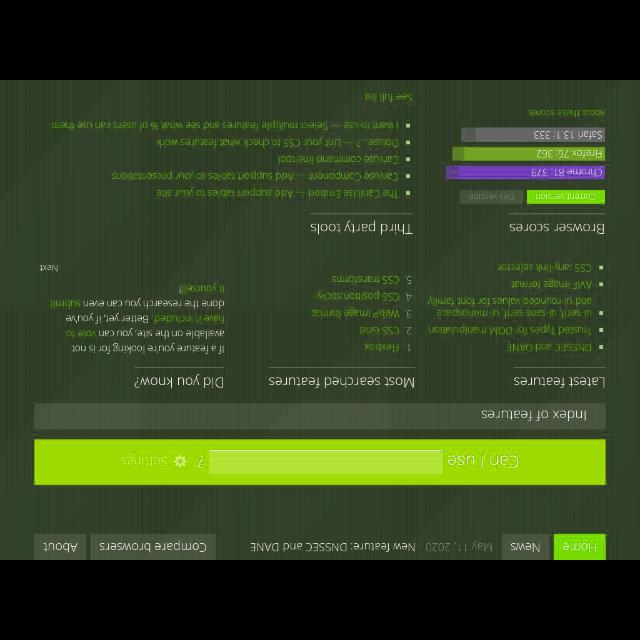icon: (174, 454, 186, 468)
input: (209, 449, 445, 473)
text: (48, 283, 224, 353), (50, 120, 400, 132), (109, 170, 401, 183), (427, 296, 593, 318), (154, 186, 398, 200), (154, 138, 400, 148), (268, 373, 414, 389), (249, 540, 415, 554), (429, 324, 591, 336), (479, 407, 591, 423), (512, 374, 606, 392), (508, 220, 606, 237), (133, 372, 223, 390), (309, 220, 413, 234), (276, 154, 399, 164), (311, 306, 413, 318), (448, 452, 520, 468), (316, 290, 412, 302), (416, 540, 496, 554), (498, 262, 590, 274), (330, 274, 412, 286), (504, 342, 592, 353), (532, 166, 602, 178), (510, 280, 590, 290), (120, 452, 168, 468), (527, 109, 605, 118), (534, 129, 602, 139), (536, 148, 602, 158), (363, 91, 412, 103), (364, 341, 412, 353), (361, 325, 413, 335), (34, 262, 58, 274), (196, 452, 206, 470)
textbutton: (90, 532, 216, 558), (554, 533, 606, 557), (34, 534, 86, 556), (526, 190, 606, 204), (504, 533, 550, 557), (458, 190, 524, 204)
toolbar: (32, 533, 606, 559)
